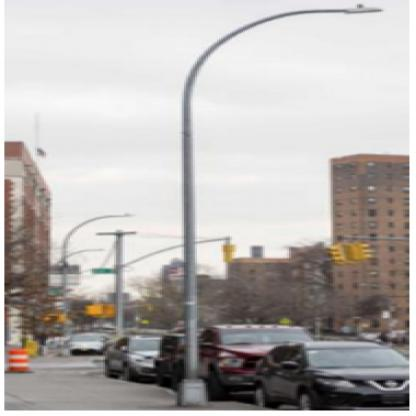Streetlights 1: (160, 3, 390, 412)
